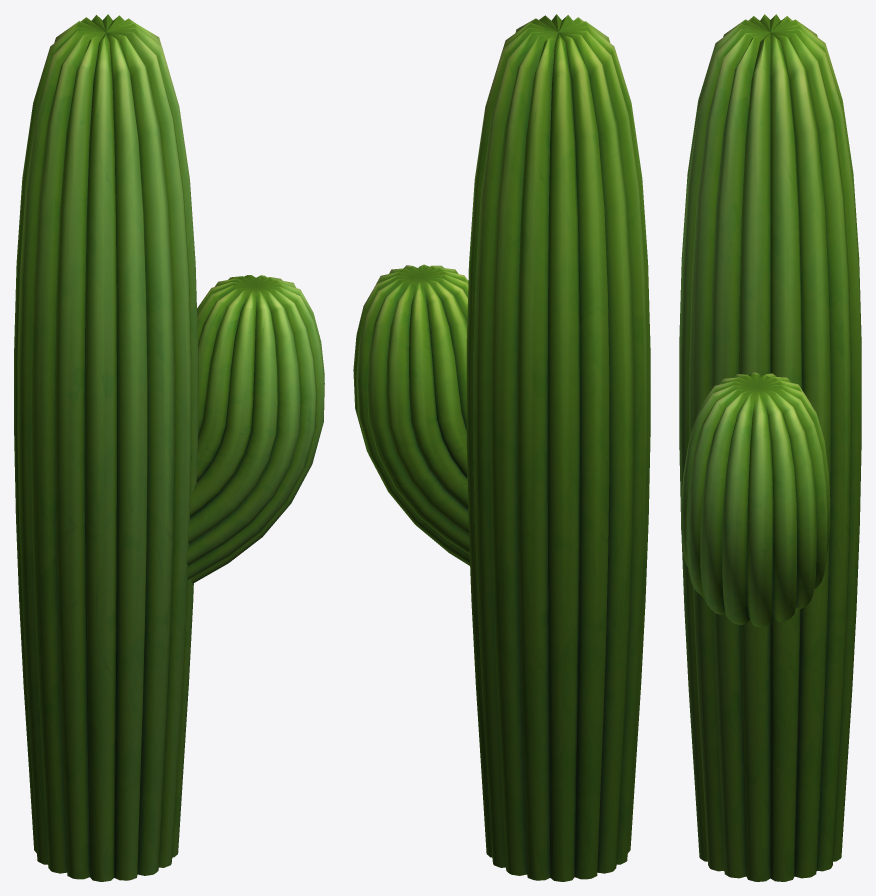
File: DE_Cactus_31.fbx
3 views of the same model, side by side, from view 1: azimuth 30°, elevation 25°; view 2: azimuth 150°, elevation 25°; view 3: azimuth 270°, elevation 25° (orthographic).
Visible parts, largest first — view 1: DE_Cactus_31; view 2: DE_Cactus_31; view 3: DE_Cactus_31.
Boxes of the visible parts, x1,y1,x2,y2 form: DE_Cactus_31: (14,14,324,881); DE_Cactus_31: (353,14,650,881); DE_Cactus_31: (679,14,861,881).
Size of the model in its own units: 2.27 by 6.35 by 1.27.
